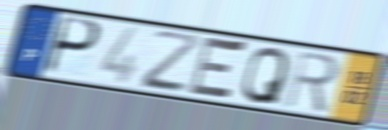4: (96, 24, 141, 88)
E: (185, 33, 250, 104)
P: (41, 15, 104, 78)
Q: (239, 45, 292, 107)
R: (281, 49, 341, 115)
Z: (140, 28, 204, 96)
